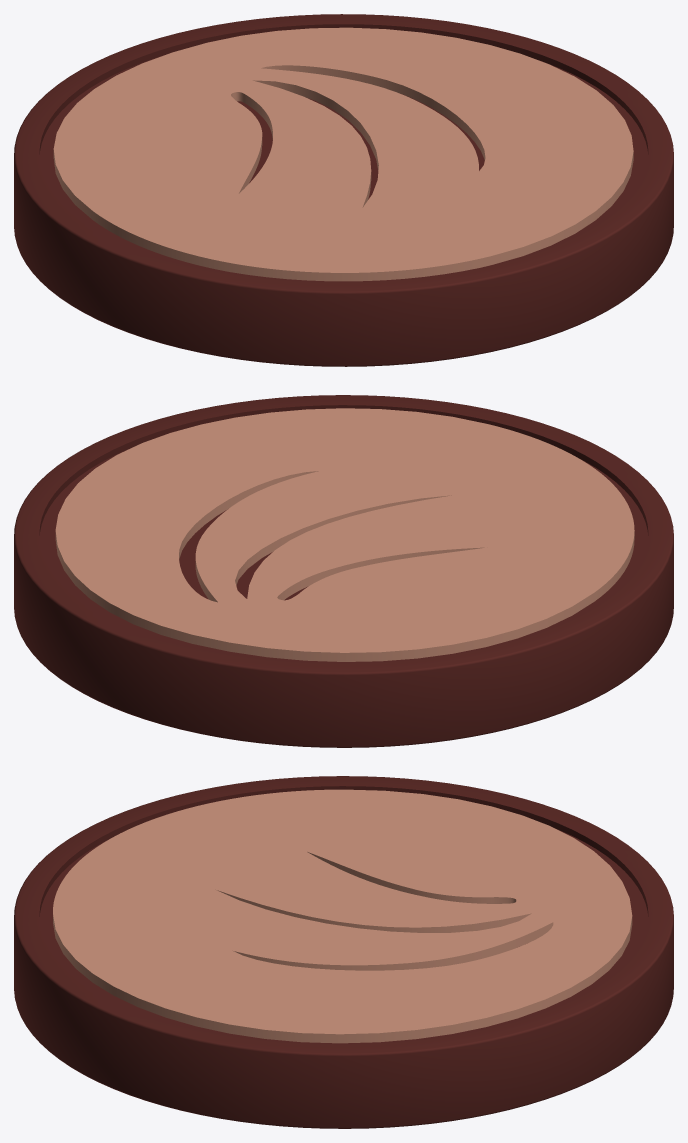
Rendered from KnotWeed_R.fbx.
3 views of the same model, one above another, from view 1: azimuth 30°, elevation 25°; view 2: azimuth 150°, elevation 25°; view 3: azimuth 270°, elevation 25° (orthographic).
Visible parts, largest first — view 1: Tile10.001; view 2: Tile10.001; view 3: Tile10.001.
Part boxes in pixels (box(x1,y1,x2,y2)): Tile10.001: box(14, 14, 673, 366); Tile10.001: box(14, 395, 673, 747); Tile10.001: box(14, 776, 673, 1128).
Size of the model in its own units: 13.25 by 1.73 by 13.25.
